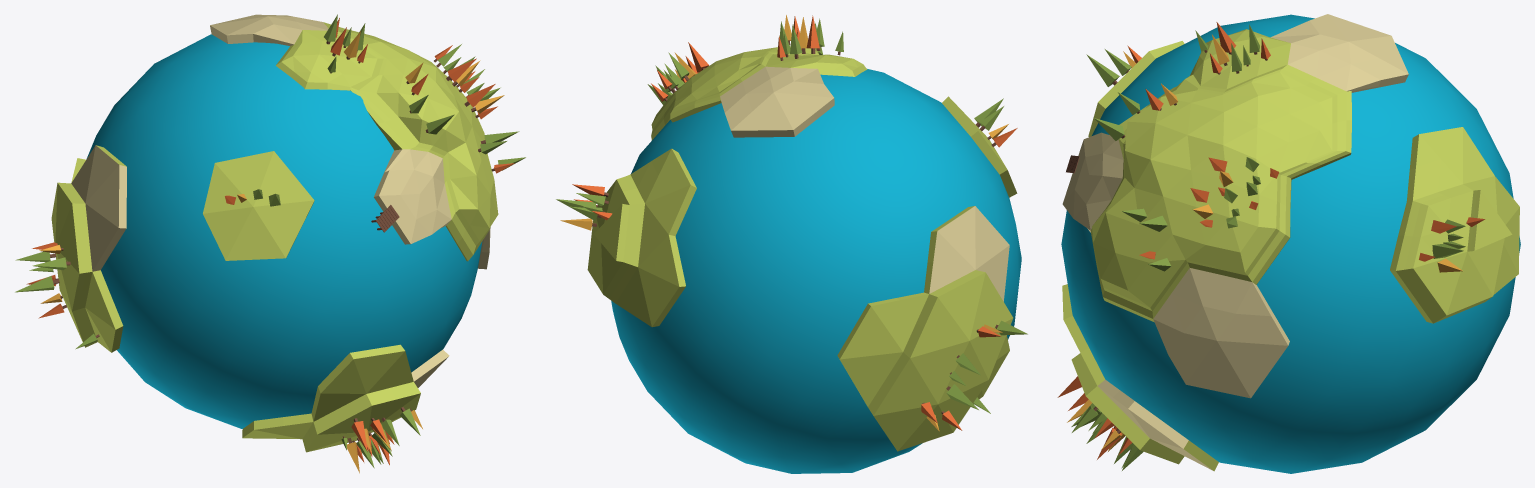
File: Planet-flat-2.glb
The picture shows the model from 3 angles, left to right: view 1: azimuth 30°, elevation 25°; view 2: azimuth 150°, elevation 25°; view 3: azimuth 270°, elevation 25°; orthographic projection. The views are drawn at different scales.
Parts seen in each view (by area): view 1: Water, Planet; view 2: Water, Planet; view 3: Planet, Water.
Boxes of the visible parts, x1,y1,x2,y2 form: Water: (86, 34, 482, 428); Planet: (51, 14, 498, 452); Water: (611, 69, 1021, 473); Planet: (587, 46, 1017, 451); Planet: (1062, 14, 1519, 471); Water: (1061, 14, 1520, 473).
Bounding box in the file's own units: 2.45 × 2.26 × 2.09.
